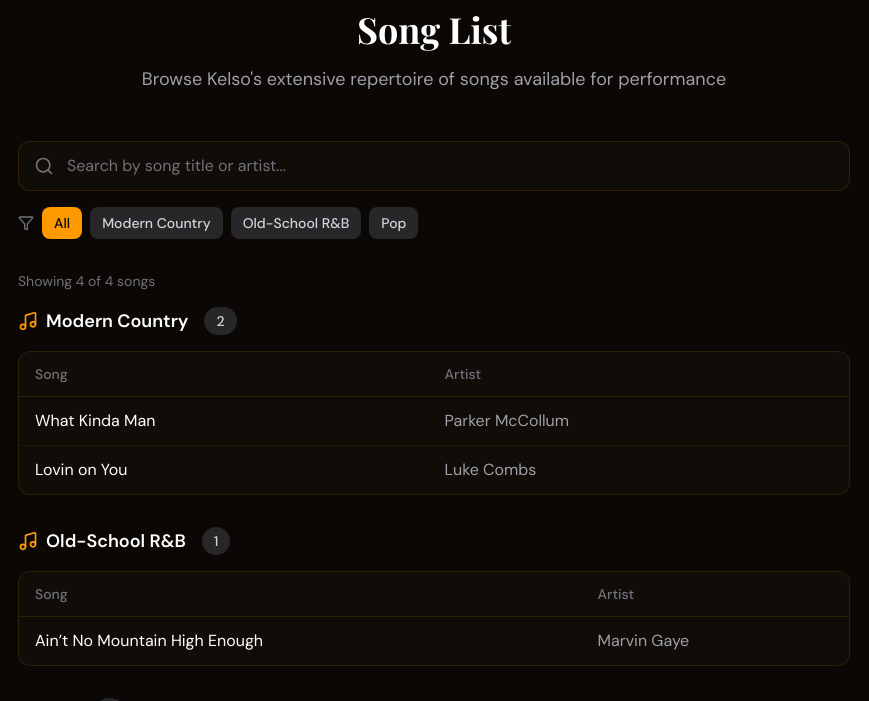
SongsClient › filters by artist name
The image size is (869, 701).
Type "combs" into the field with placeholder "Search by song title or artist...". click: (434, 166)
box: x1=18 y1=141 x2=850 y2=191
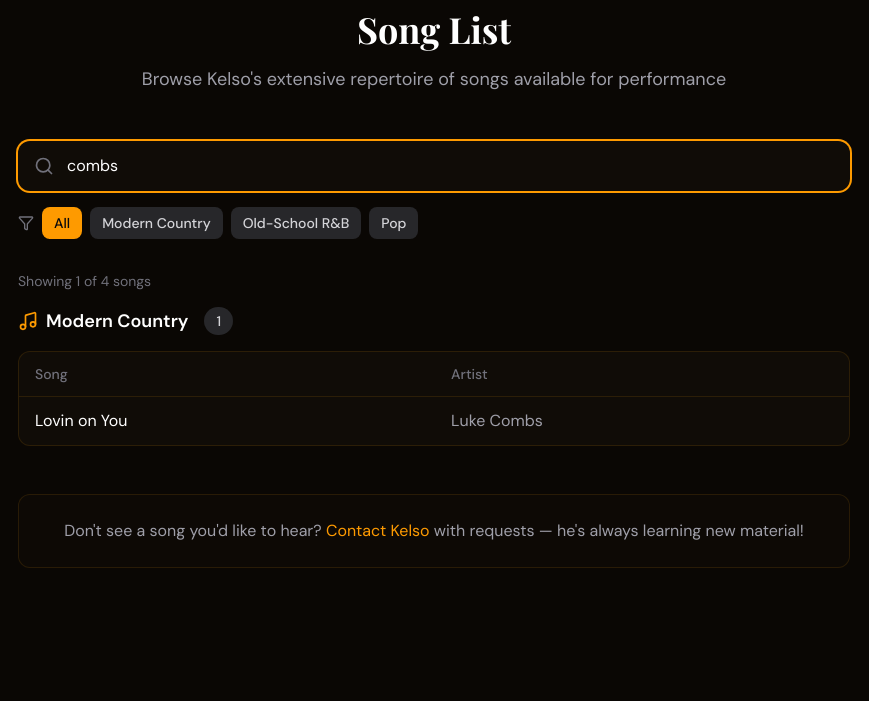
Expected: the text "Lovin on You" is shown, x1=19 y1=396 x2=435 y2=445
Result: the text "Showing 1 of 4 songs" is shown at x1=18 y1=272 x2=151 y2=290
